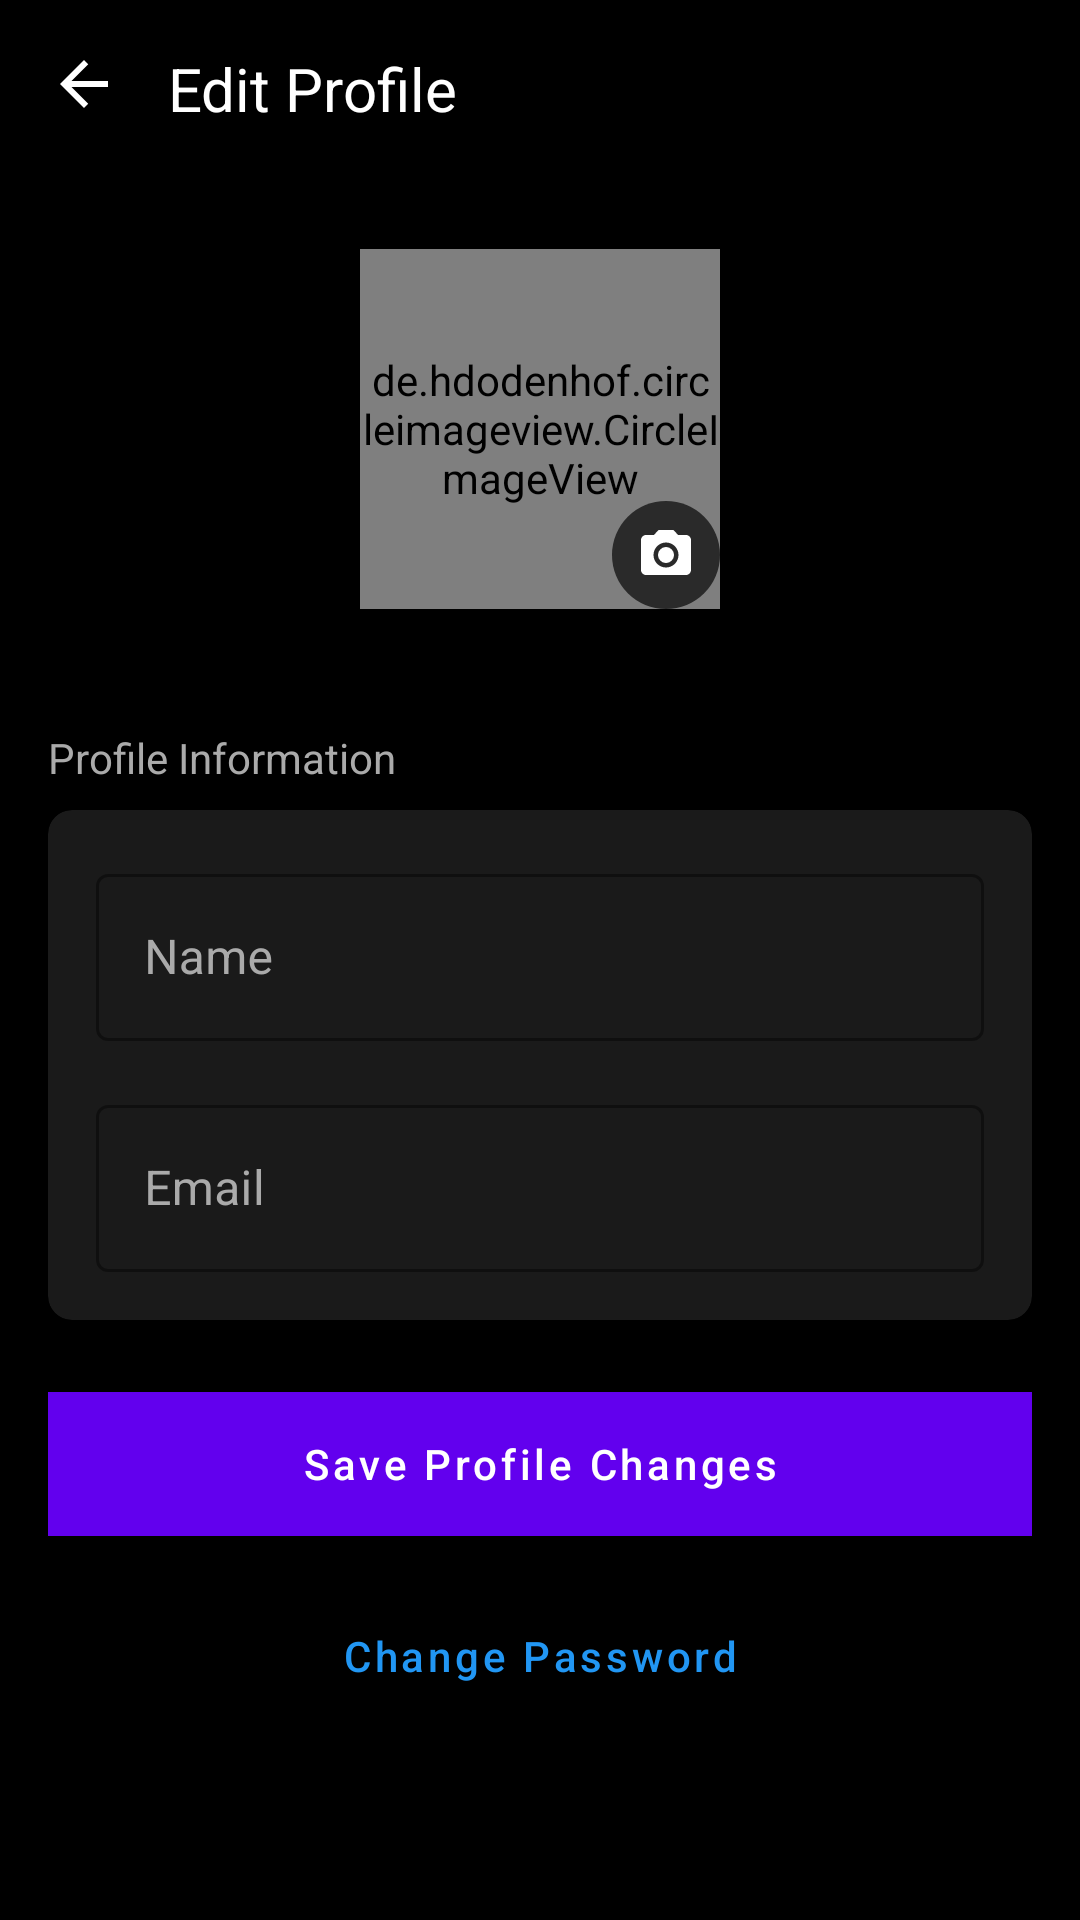

Named icons in this screenshot (1080px×1920px) and their centers, (x,y):
Back: (84,84)
camera: (666,555)
